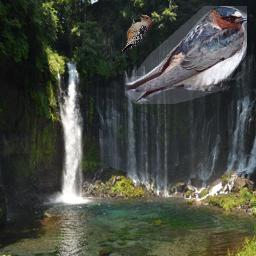Swallow: (125, 6, 247, 104)
Woodpecker: (122, 12, 152, 51)
